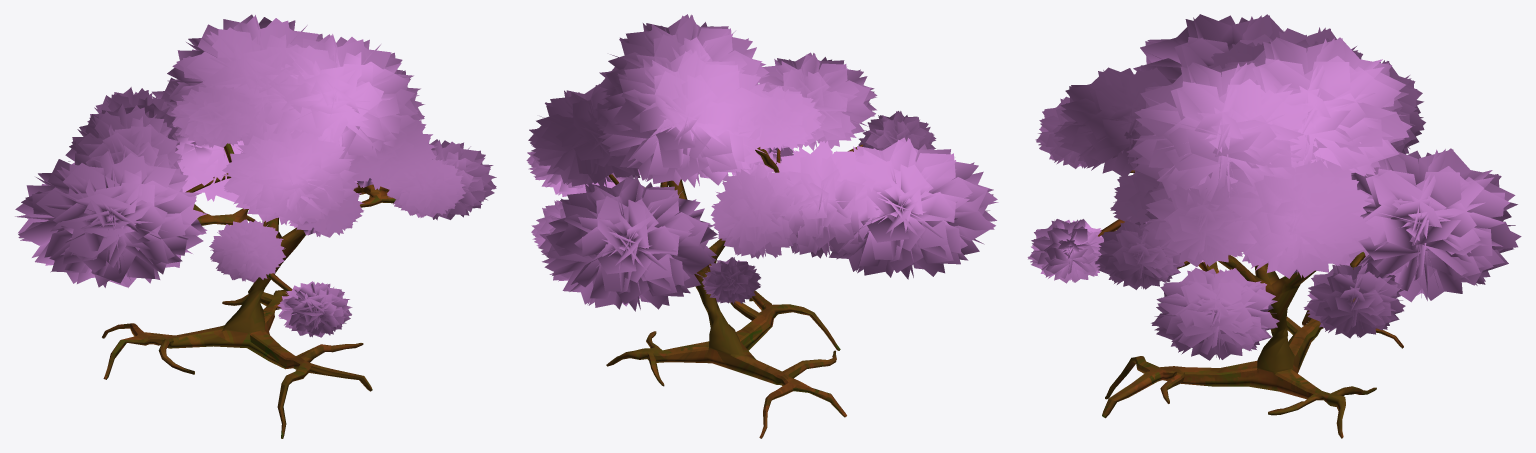
File: sakura.fbx
3 renders of one model, left to right at view 1: azimuth 30°, elevation 25°; view 2: azimuth 150°, elevation 25°; view 3: azimuth 270°, elevation 25°, orthographic. The views are drawn at different scales.
Visible parts, largest first — view 1: sakura1; view 2: sakura1; view 3: sakura1.
Boxes of the visible parts, x1,y1,x2,y2 form: sakura1: (15,14,496,438); sakura1: (526,14,998,438); sakura1: (1027,14,1521,438).
Bounding box in the file's own units: 95.12 × 67.02 × 78.06.
2 materials, 2 textured.
